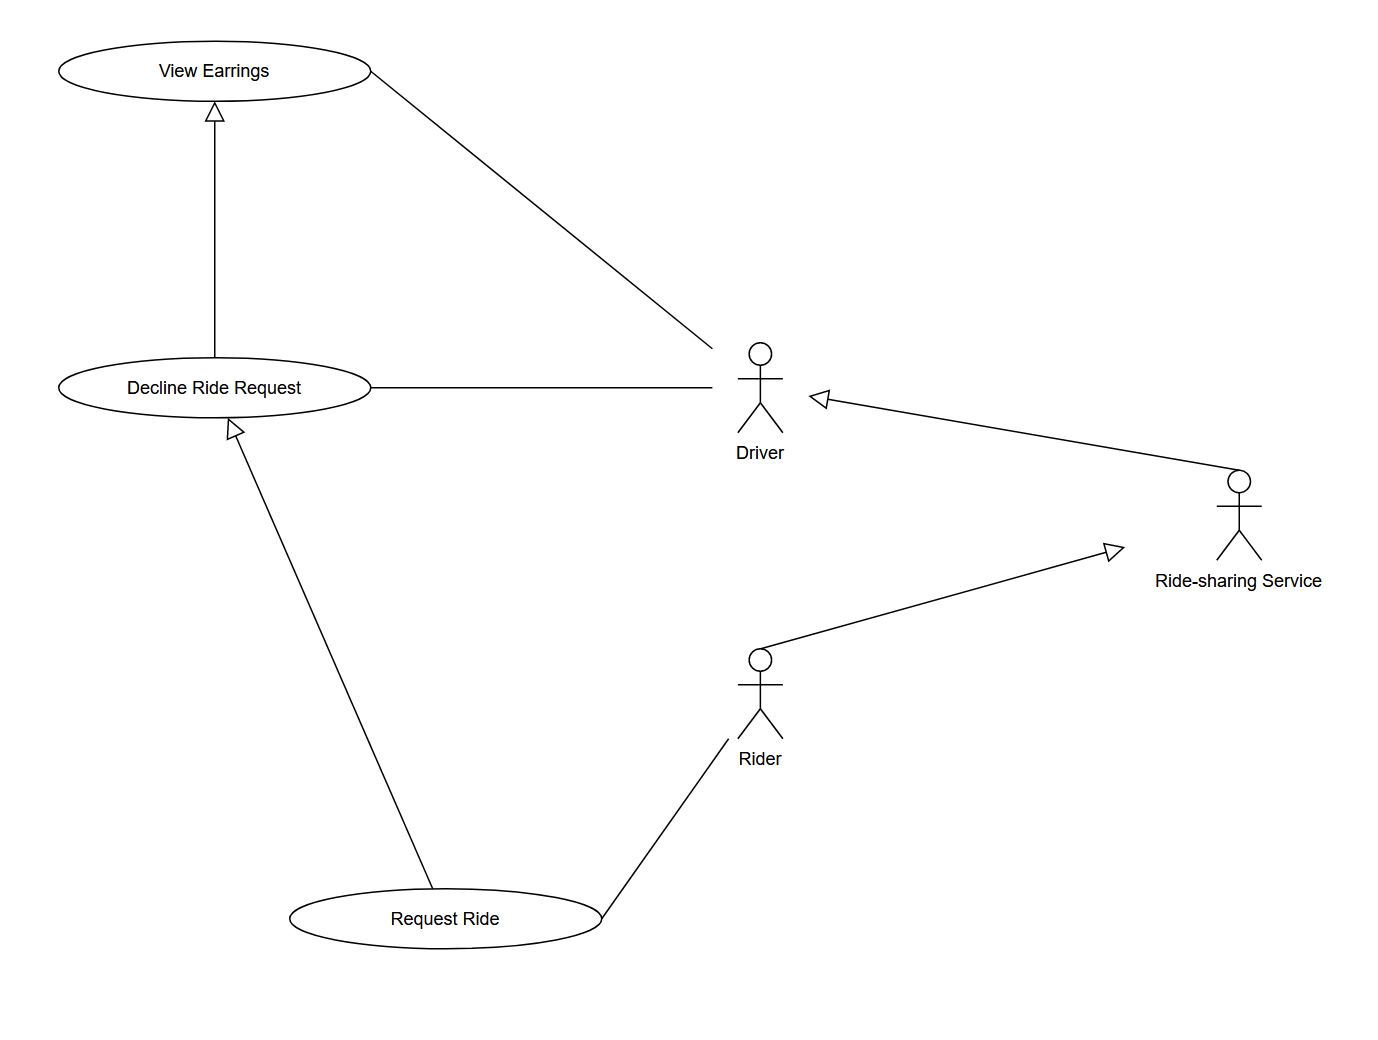actor: (729, 336, 789, 444), (739, 647, 789, 738), (1217, 469, 1264, 562)
association: (371, 72, 712, 347), (603, 733, 729, 919), (370, 371, 718, 399)
generalization: (224, 417, 435, 888), (761, 540, 1135, 649), (807, 386, 1229, 470), (201, 101, 230, 355)
text: (116, 371, 307, 402), (1144, 569, 1335, 596), (152, 54, 282, 86), (382, 903, 511, 933), (735, 440, 797, 464), (739, 745, 788, 770)
use_case: (56, 355, 371, 421), (288, 886, 603, 952), (57, 38, 375, 103)
